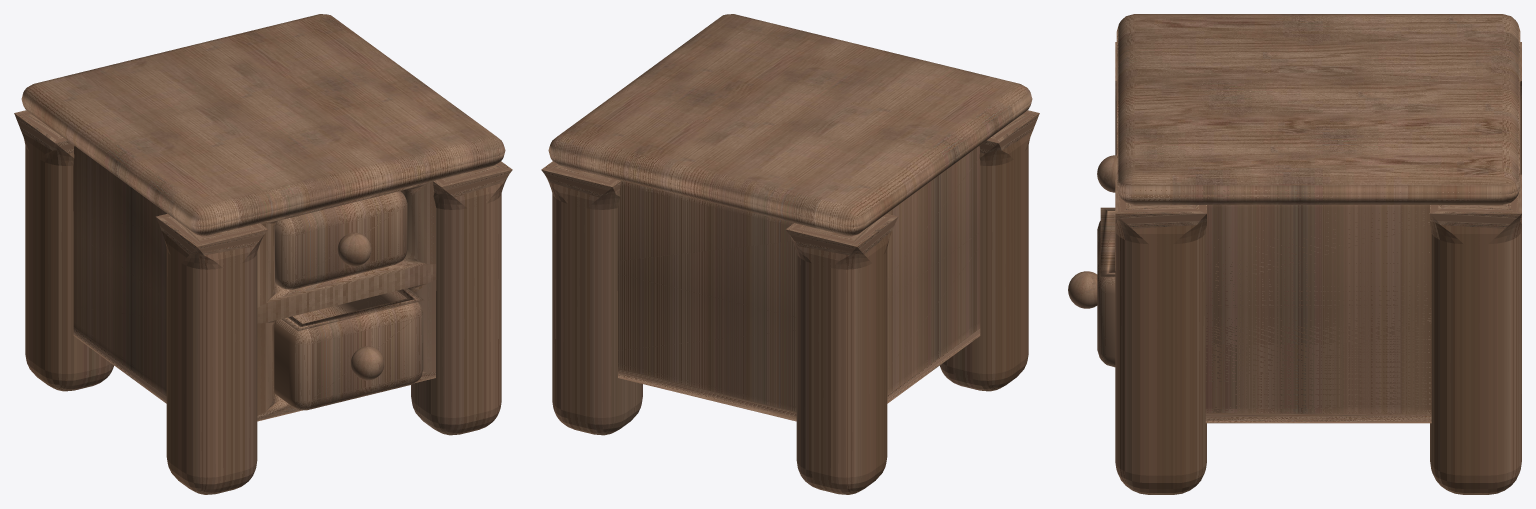
File: mesaCuarto.glb
3 renders of one model, left to right at view 1: azimuth 30°, elevation 25°; view 2: azimuth 150°, elevation 25°; view 3: azimuth 270°, elevation 25°, orthographic. The views are drawn at different scales.
Parts seen in each view (by area): view 1: mesa, mesa.001; view 2: mesa, mesa.001; view 3: mesa, mesa.001.
Boxes of the visible parts, bbox=[...] form: mesa: bbox=[21, 14, 505, 421]; mesa.001: bbox=[14, 110, 512, 494]; mesa: bbox=[548, 14, 1032, 421]; mesa.001: bbox=[541, 110, 1039, 494]; mesa: bbox=[1068, 14, 1520, 423]; mesa.001: bbox=[1115, 42, 1521, 494].
Size of the model in its own units: 0.5954 by 0.5291 by 0.6656.
Materials: 1 (1 with a texture image).
